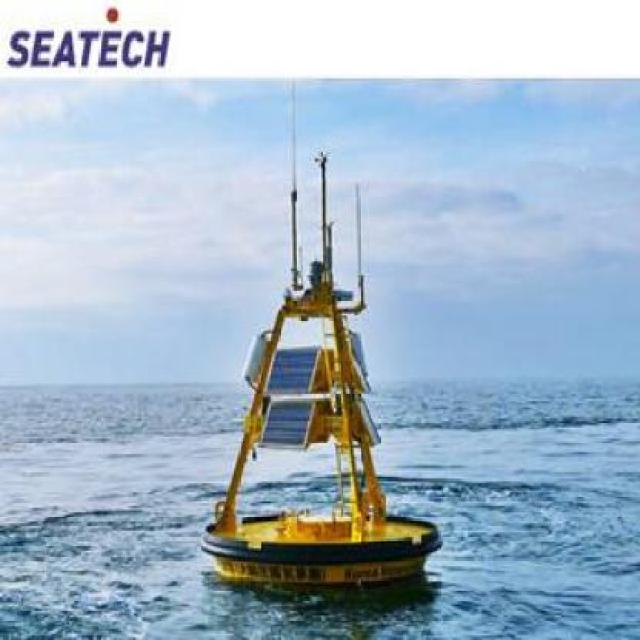buoy: (191, 86, 454, 621)
